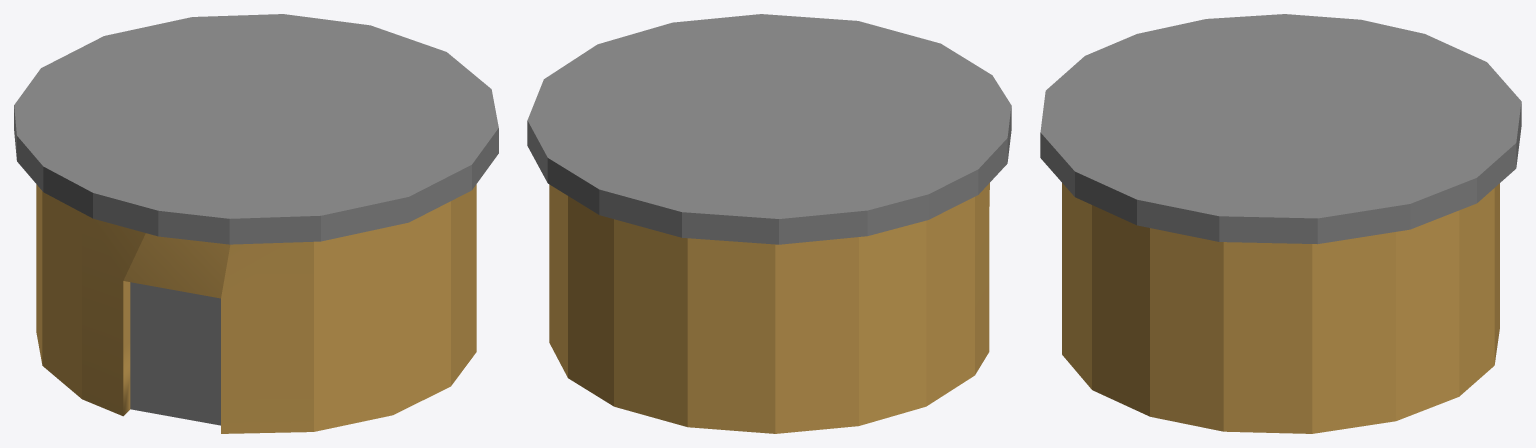
The picture shows the model from 3 angles, left to right: view 1: azimuth 30°, elevation 25°; view 2: azimuth 150°, elevation 25°; view 3: azimuth 270°, elevation 25°; orthographic projection.
Visible parts, largest first — view 1: p; view 2: p; view 3: p.
Boxes of the visible parts, bbox=[...] form: p: bbox=[14, 14, 498, 433]; p: bbox=[527, 14, 1011, 433]; p: bbox=[1040, 14, 1521, 433].
Size of the model in its own units: 6.63 by 3.4 by 6.6.
